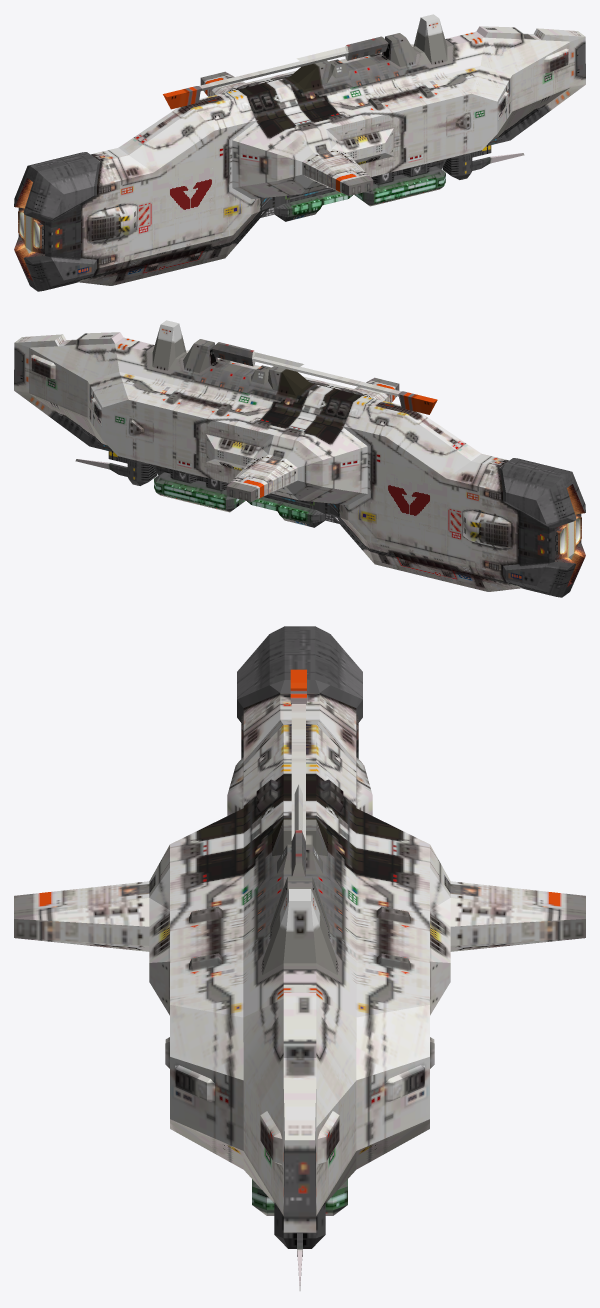
Rendered from Eriax_Heavy_Destroyer.FBX.
3 views of the same model, one above another, from view 1: azimuth 30°, elevation 25°; view 2: azimuth 150°, elevation 25°; view 3: azimuth 270°, elevation 25° (orthographic). The views are drawn at different scales.
Visible parts, largest first — view 1: Command Corvette; view 2: Command Corvette; view 3: Command Corvette.
Boxes of the visible parts, box(x1,y1,x2,y2) form: Command Corvette: box(14, 14, 585, 291); Command Corvette: box(14, 320, 585, 597); Command Corvette: box(14, 626, 585, 1290).
Size of the model in its own units: 150 by 47.61 by 68.59.
6 materials, 6 textured.
